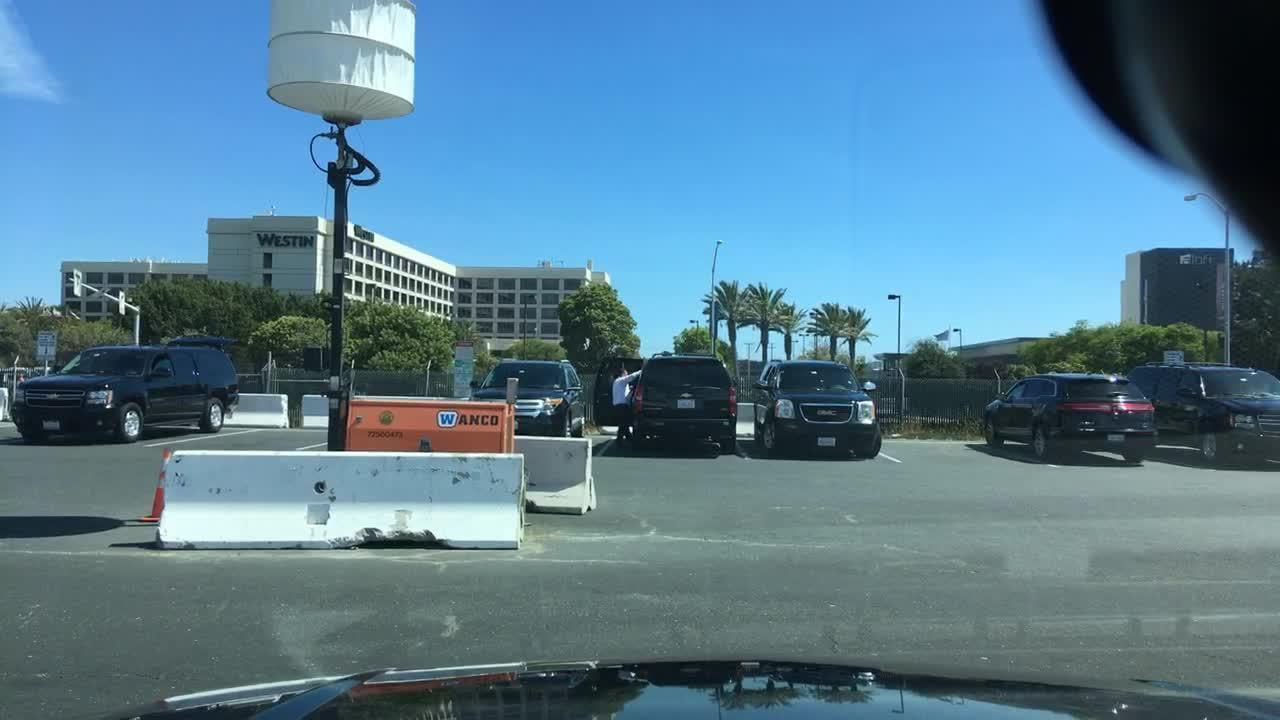GMC: (814, 406, 844, 420)
chevrolet: (679, 391, 695, 400)
